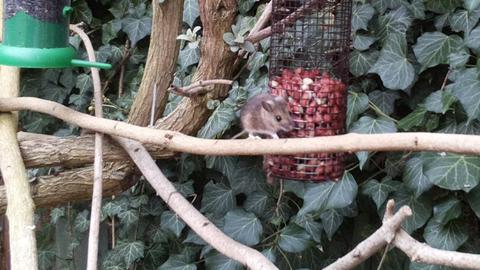mouse: (204, 92, 296, 159)
